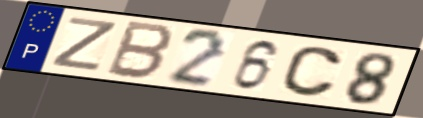2: (165, 27, 234, 90)
6: (232, 38, 281, 92)
8: (344, 51, 398, 107)
B: (102, 18, 178, 82)
C: (278, 45, 345, 99)
Z: (48, 15, 122, 73)
